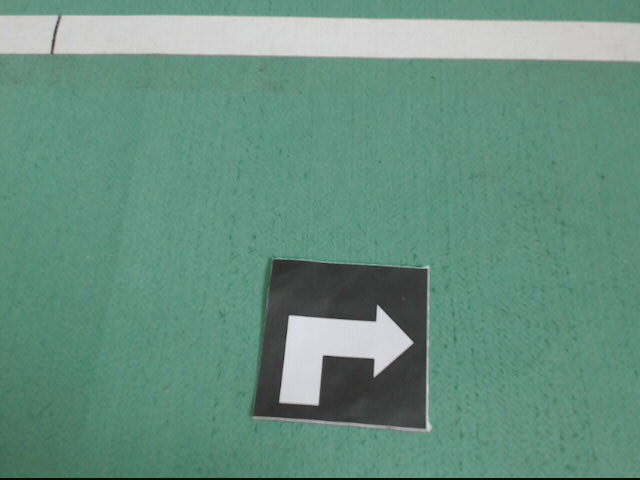right: (253, 256, 430, 433)
